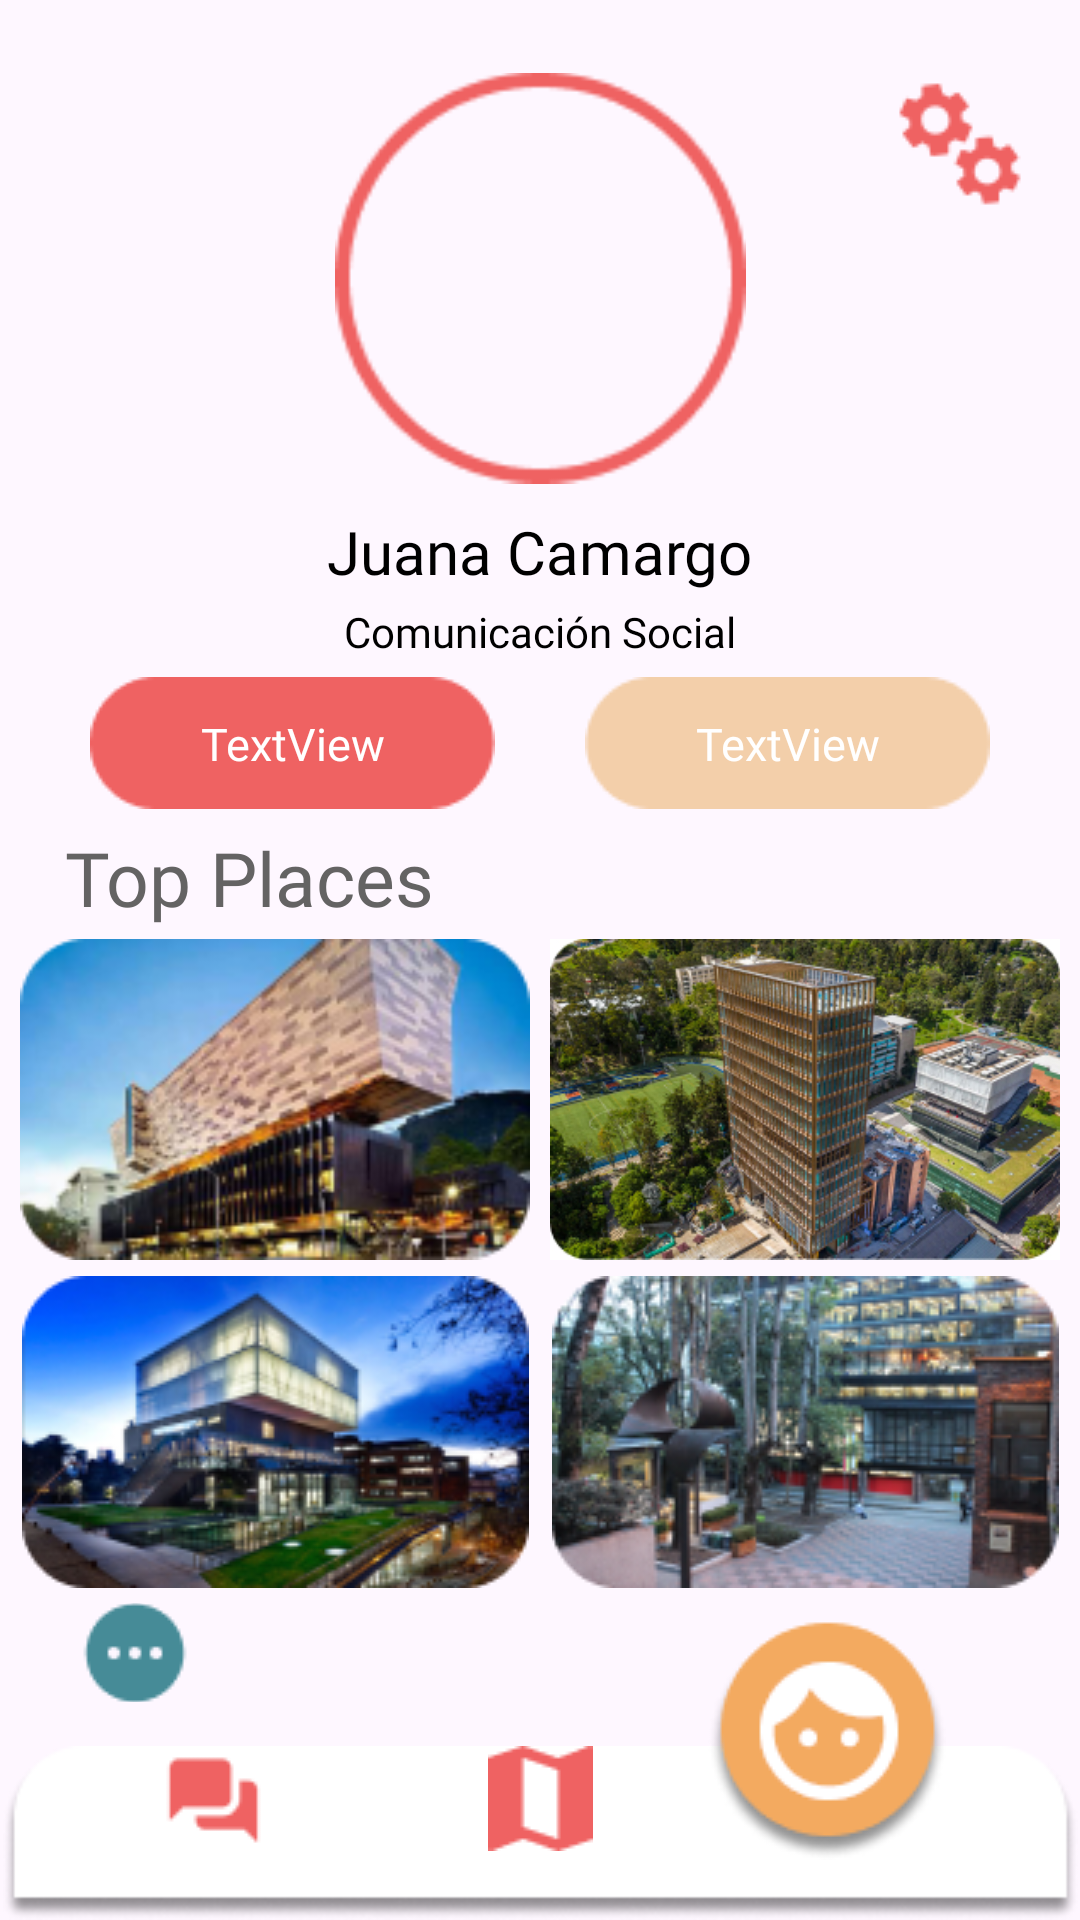

Icon click points for this 1080 x 1920 phone screenshot, format (x,y):
Accesos a perfil: (827,1737)
config: (960,144)
ellipsis horizontal circle: (135,1652)
